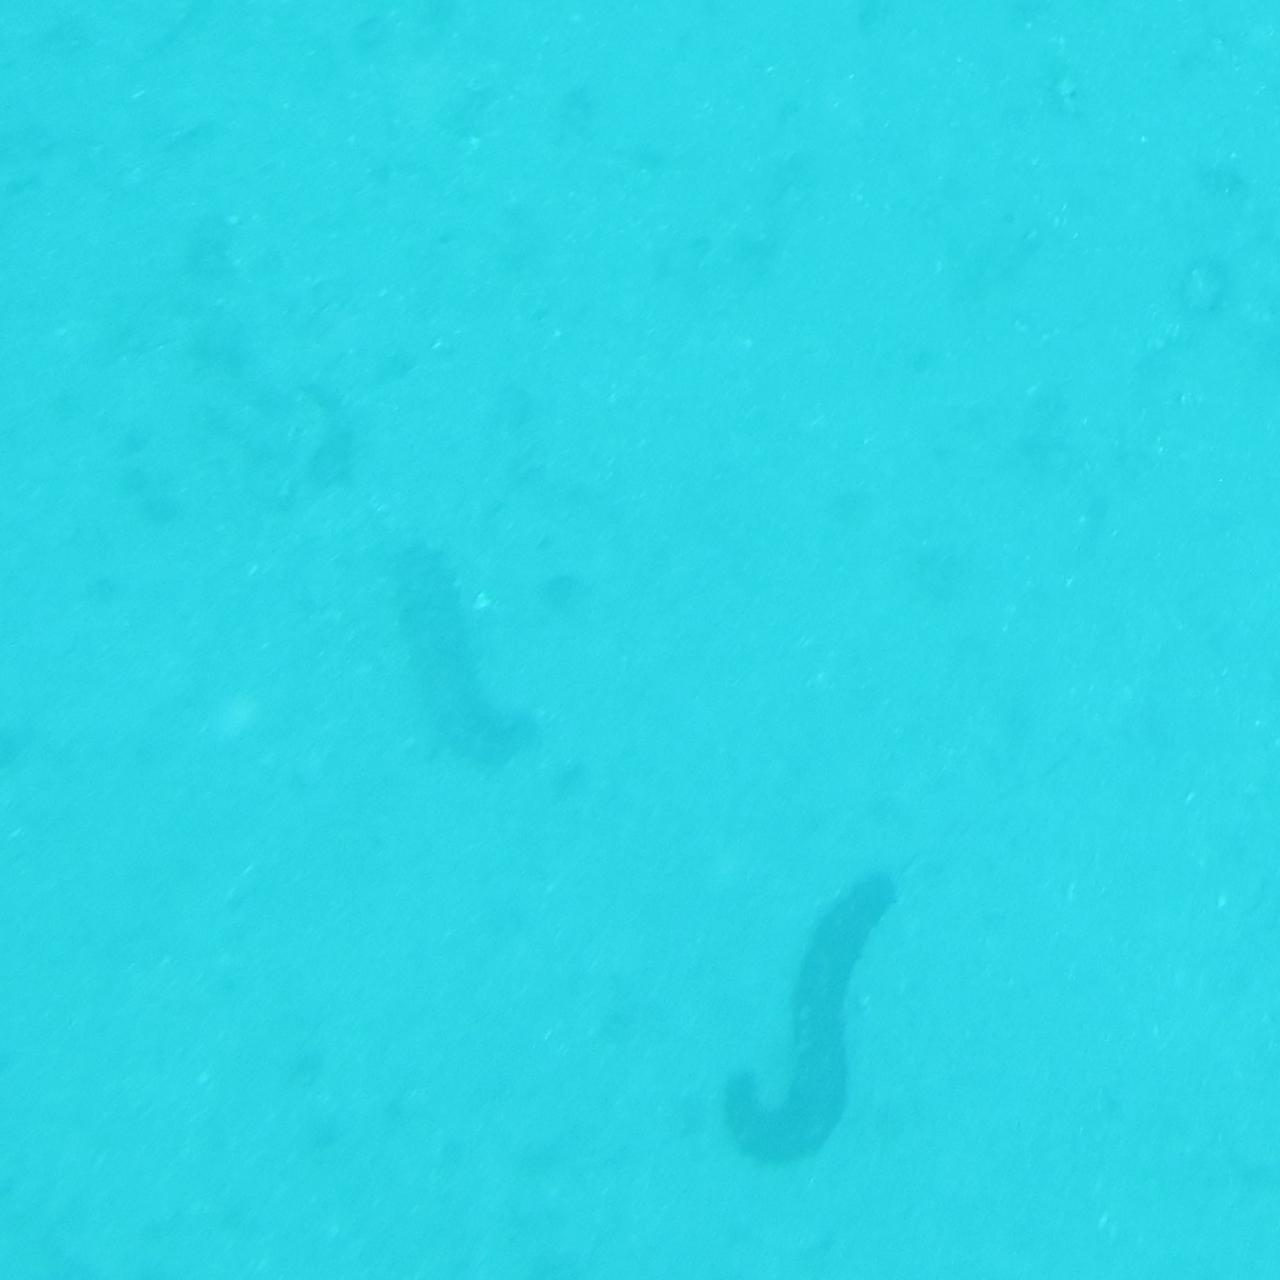Holothuria tubulosa: (728, 855, 903, 1175), (375, 550, 554, 776)
